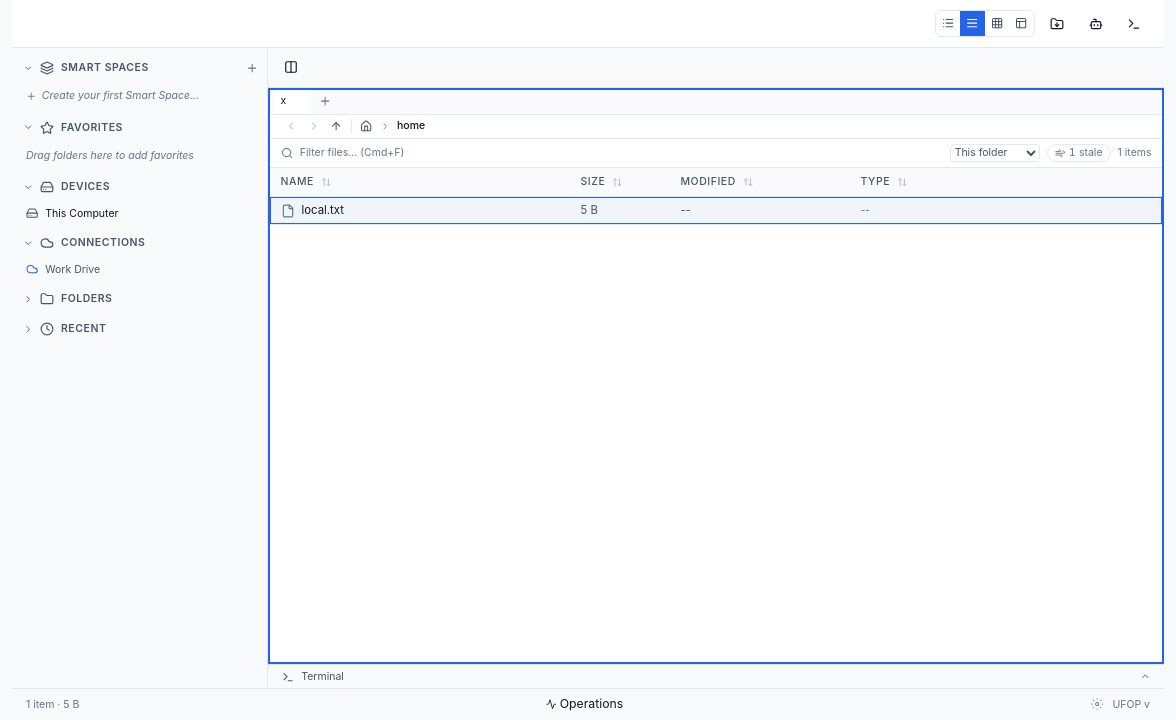
Test: connections in the panes › Ctrl+L turns the breadcrumb into the address field; <connection>:path goes there
The width and height of the screenshot is (1176, 720).
Expected: the text "local.txt" is shown, [302, 202, 344, 220]
Press l
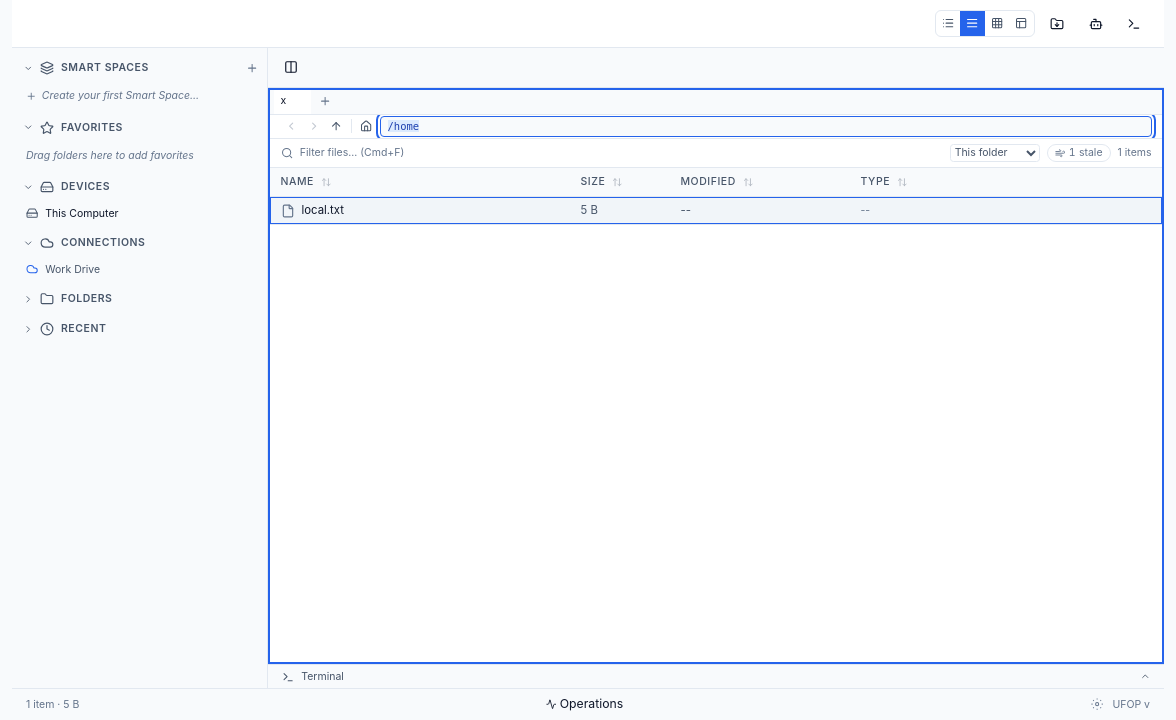
Expected: the dropdown with test id "address-bar-input" holds "/home"
Replace the text in the dropdown with test id "address-bar-input" with "Work Drive:/Reports". click: (766, 126)
box: [380, 116, 1152, 137]
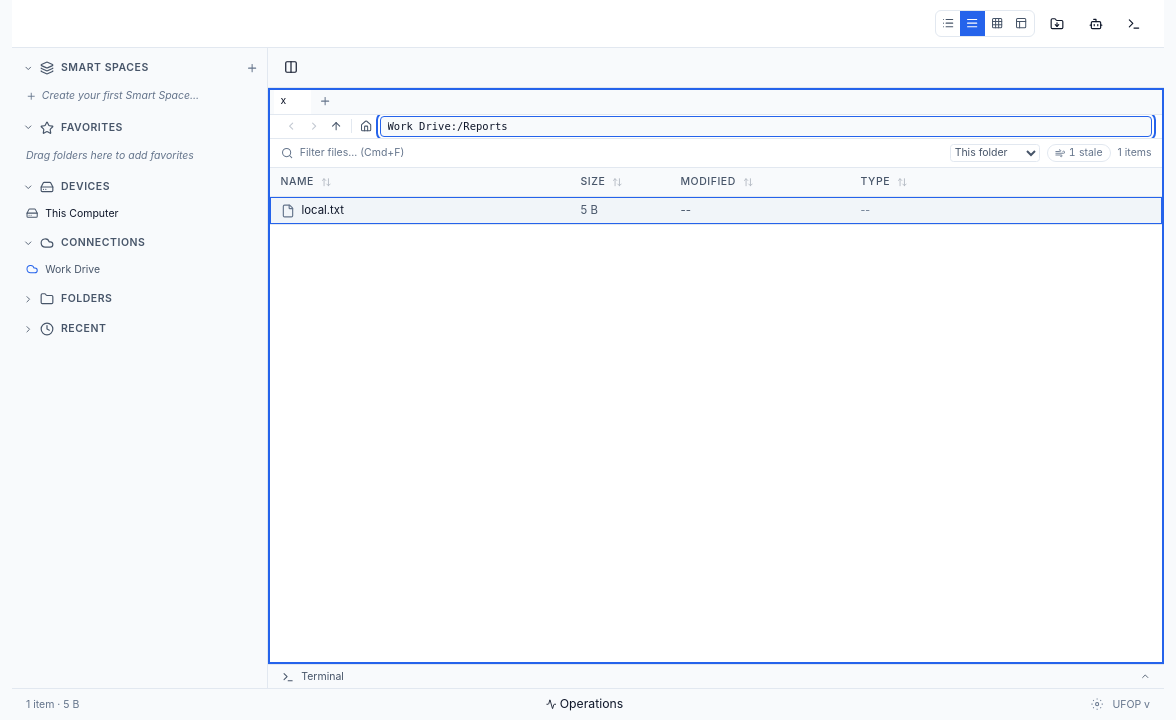
Press Enter in the dropdown with test id "address-bar-input", box [380, 116, 1152, 137]
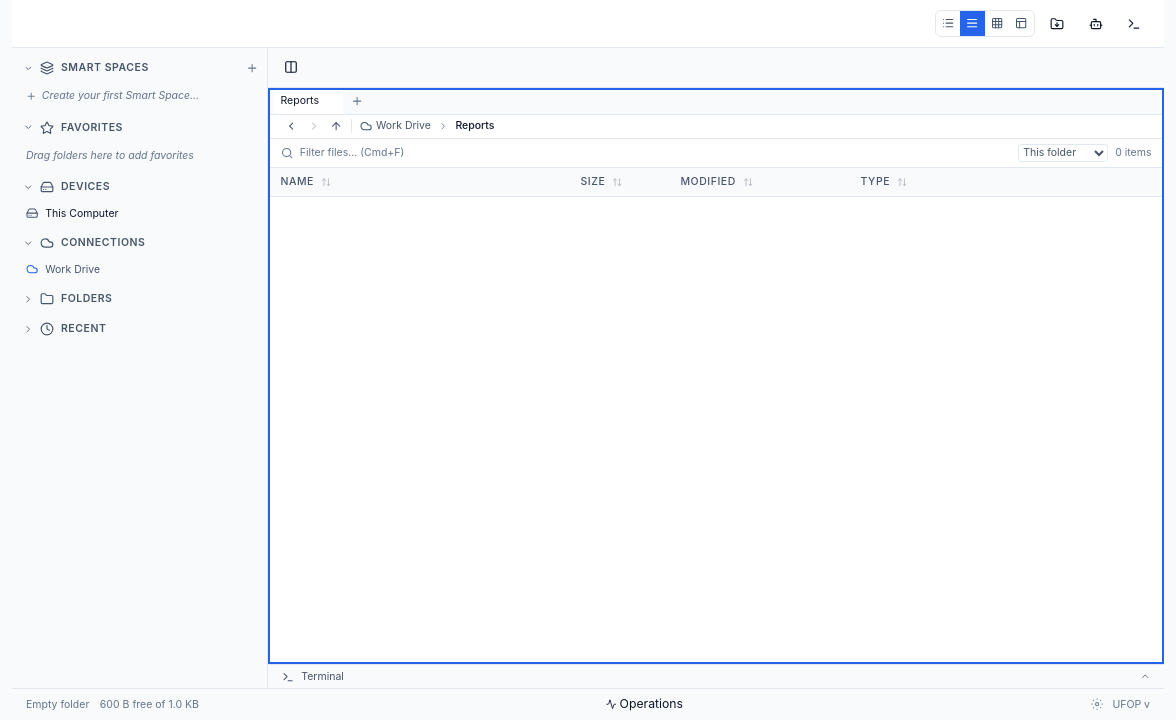
Expected: the dropdown with test id "address-bar-input" is gone
